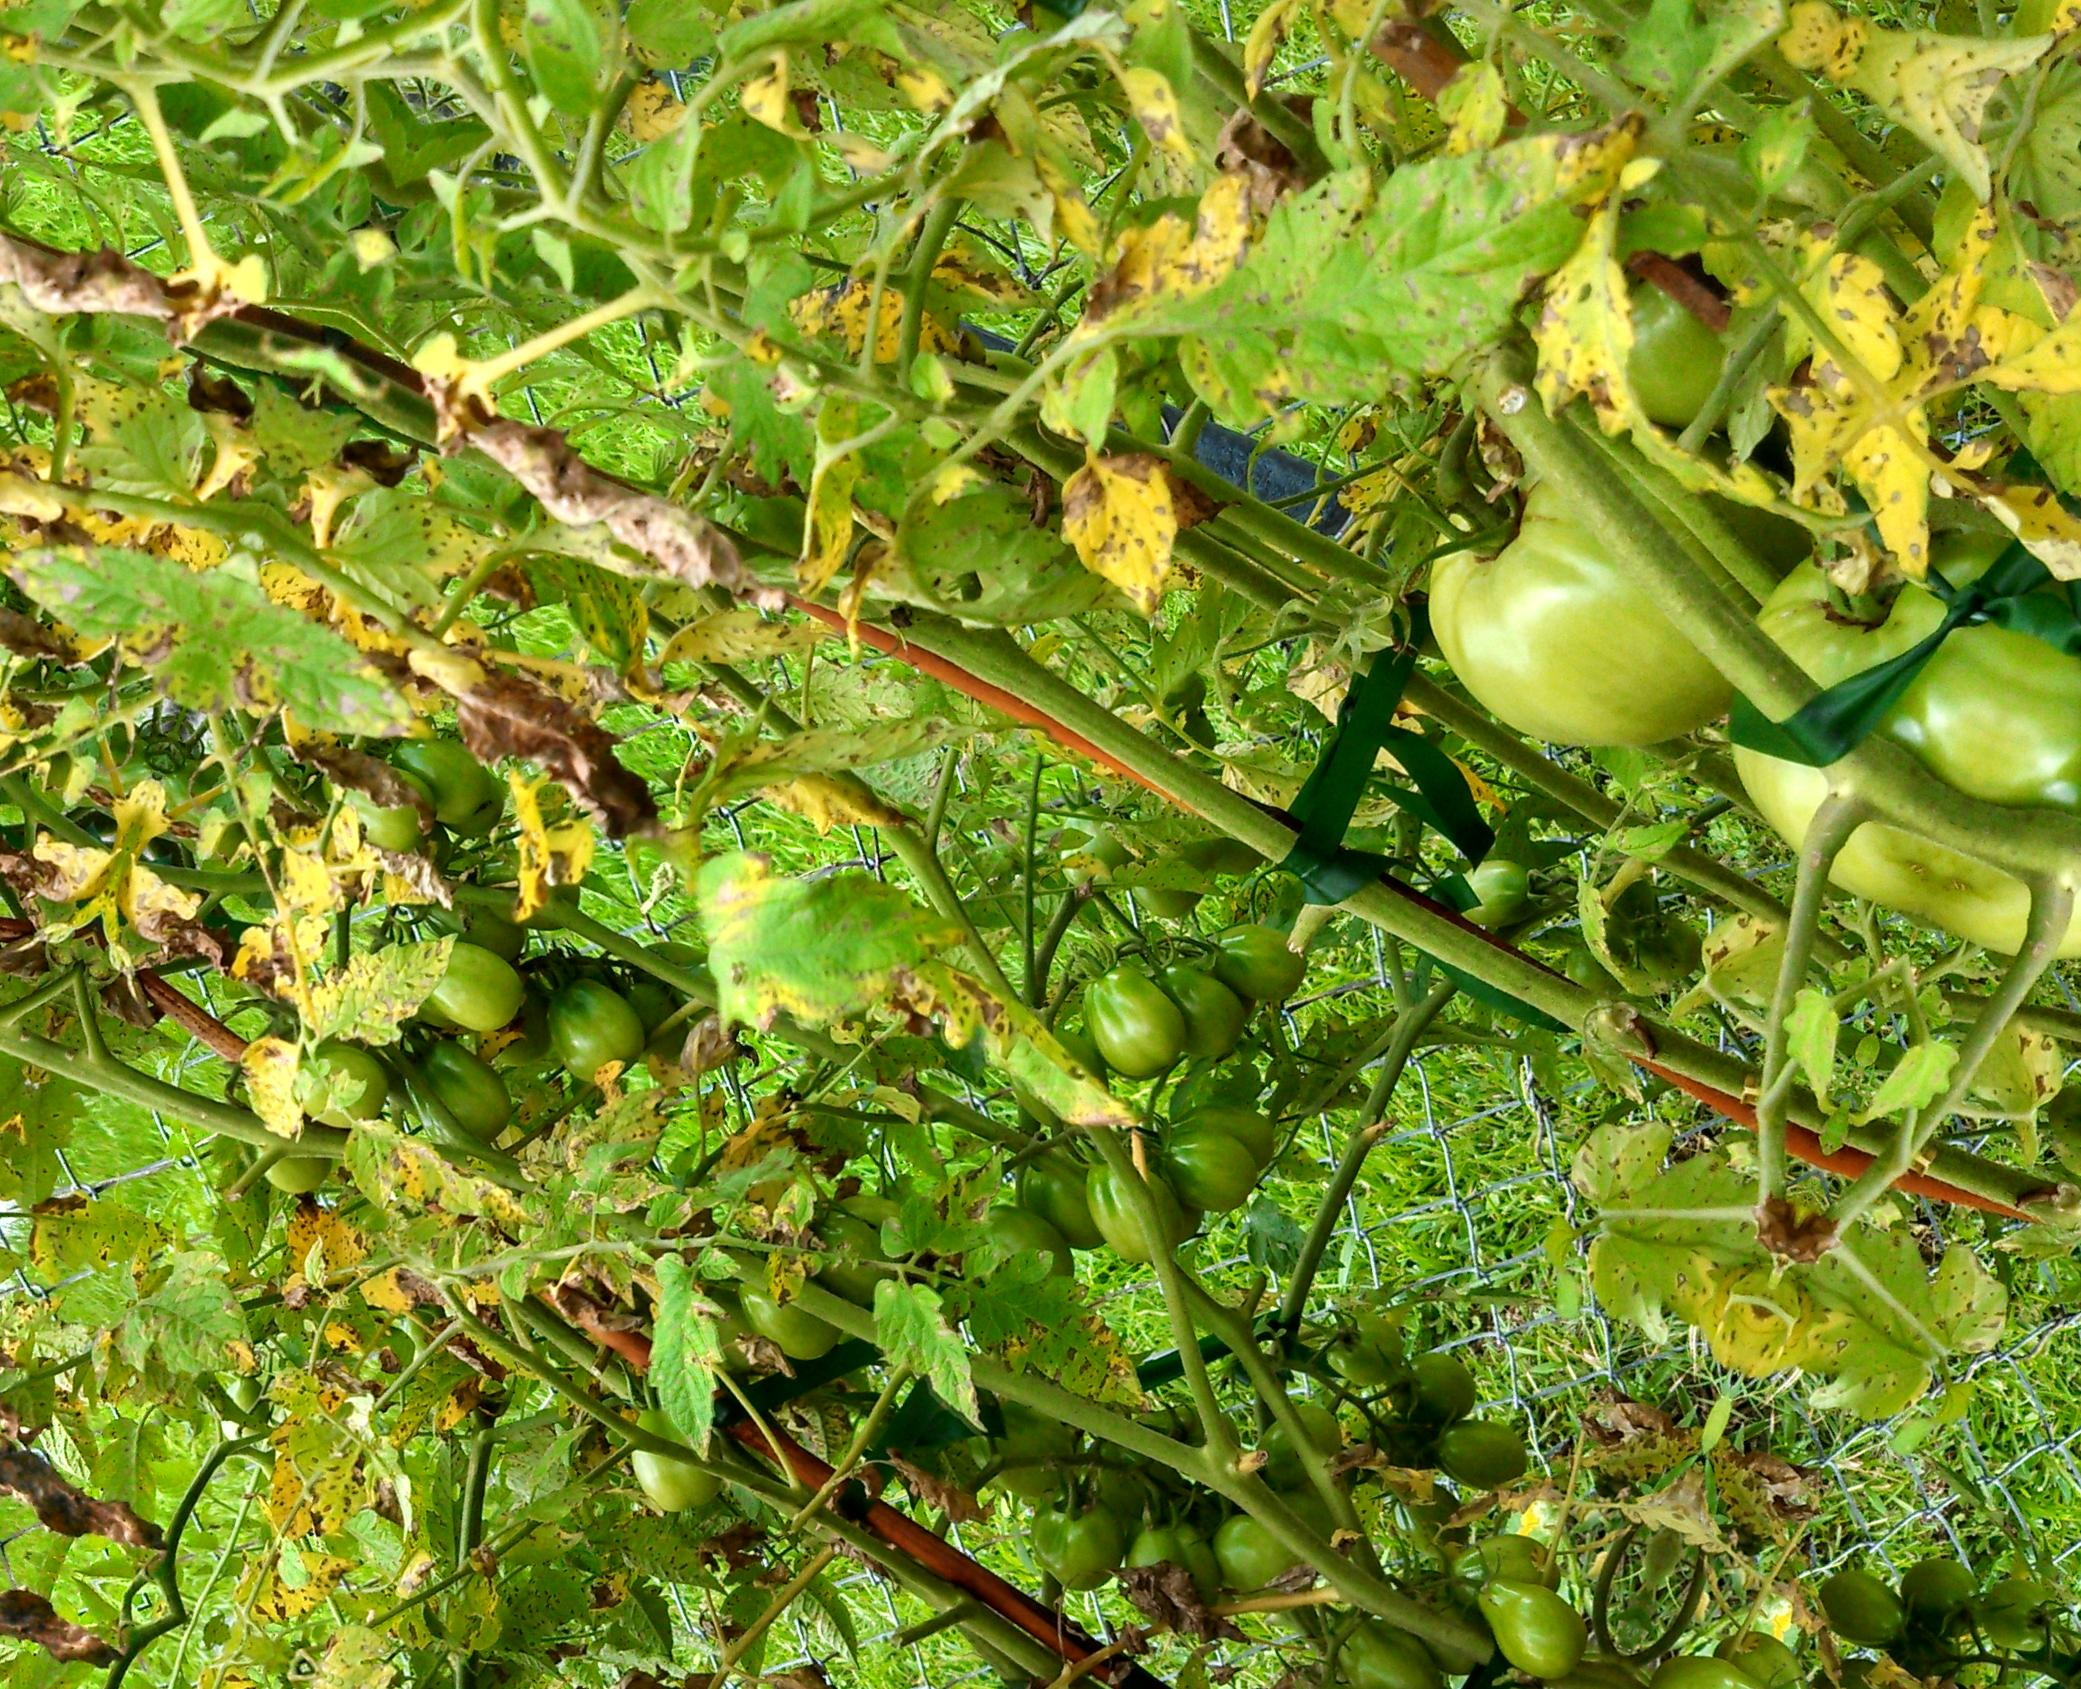Tomato Septoria leaf spot: (1120, 0, 1666, 539), (177, 560, 493, 827)
